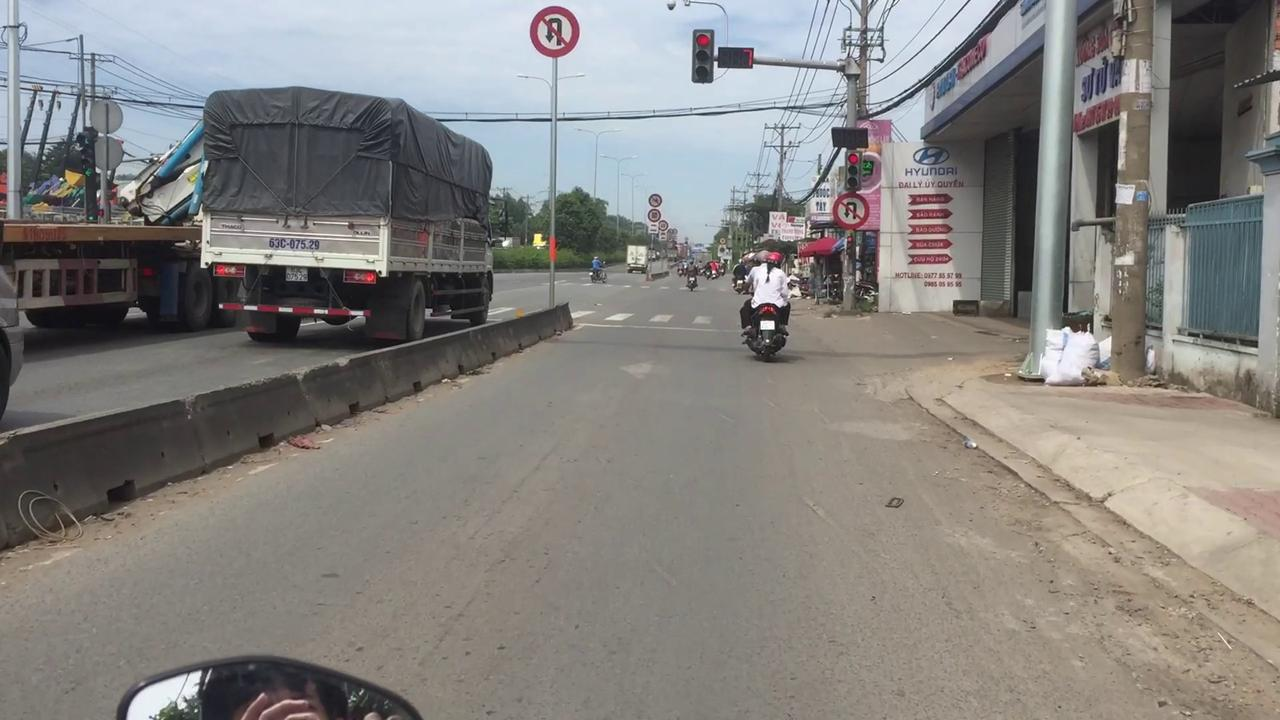P.107a: (527, 4, 583, 58), (830, 193, 869, 226)
